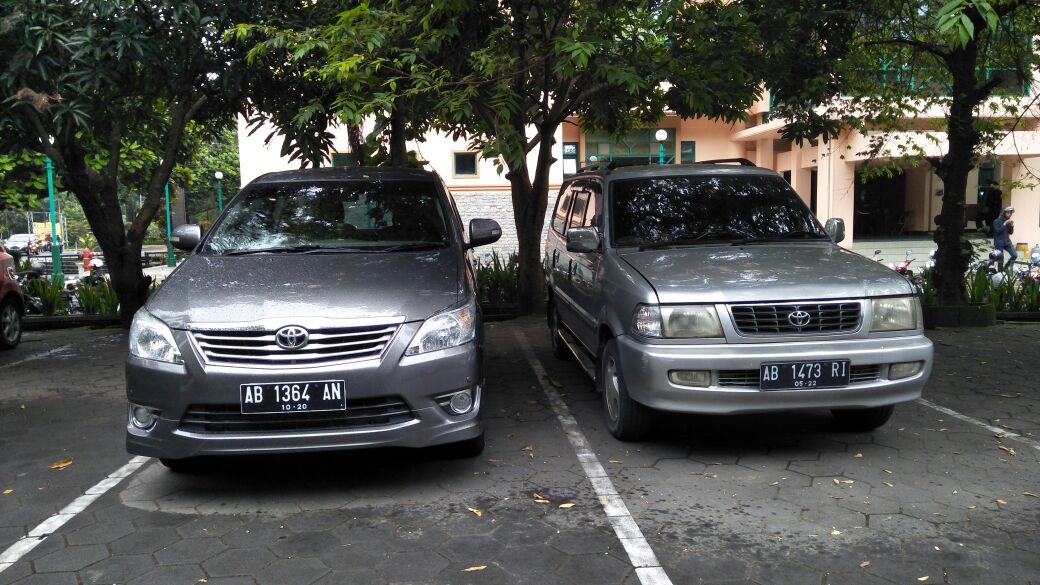plate: (239, 381, 346, 413), (761, 361, 852, 387)
